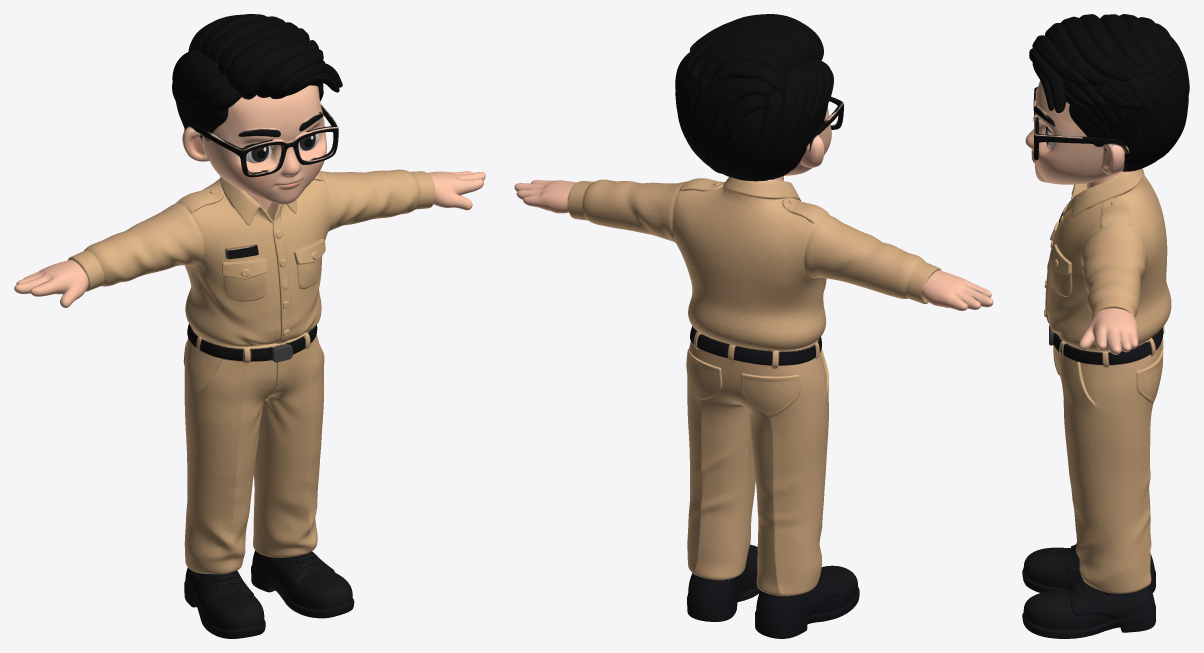
File: Meshy_AI_Khaki_Guardian_20261030_texture.fbx
3 views of the same model, side by side, from view 1: azimuth 30°, elevation 25°; view 2: azimuth 150°, elevation 25°; view 3: azimuth 270°, elevation 25° (orthographic).
Visible parts, largest first — view 1: Mesh_0; view 2: Mesh_0; view 3: Mesh_0.
Part boxes in pixels (x1=…): Mesh_0: x1=14, y1=14, x2=485, y2=638; Mesh_0: x1=514, y1=14, x2=993, y2=638; Mesh_0: x1=1022, y1=14, x2=1189, y2=638.
Size of the model in its own units: 162 by 190 by 49.32.
1 material, 1 textured.
